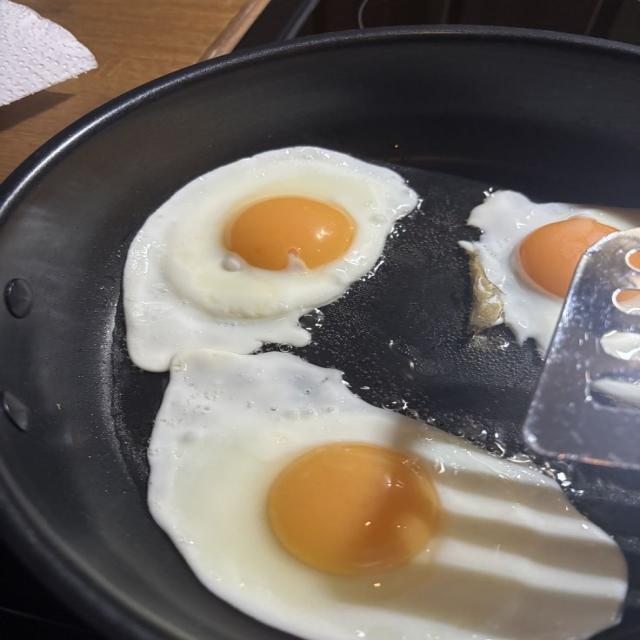fryed egg: (149, 350, 626, 639), (124, 147, 417, 371), (460, 191, 639, 354)
